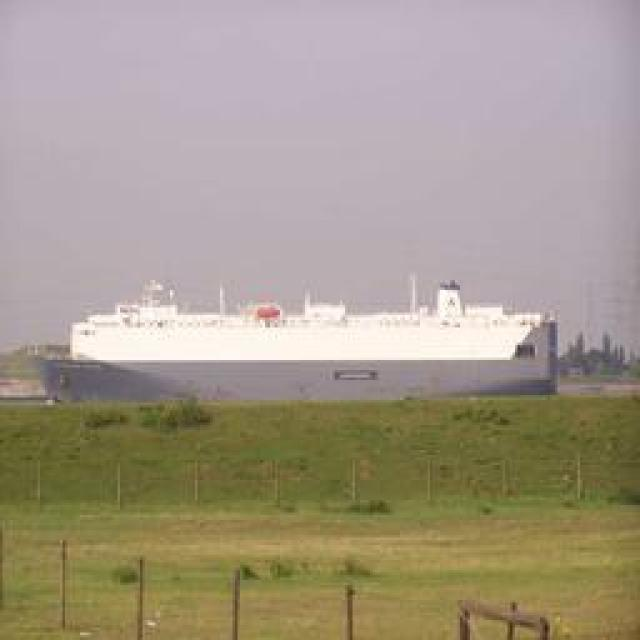ship2: (19, 272, 557, 404)
